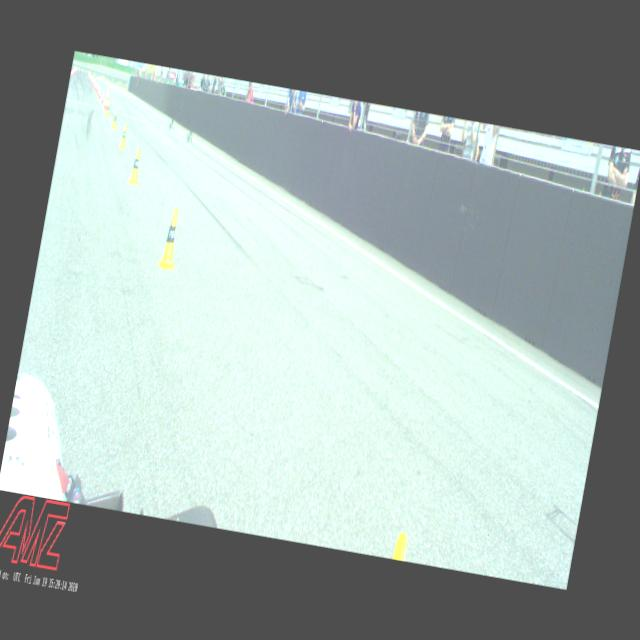large_orange_cone: (104, 87, 110, 110), (102, 88, 108, 110)
orange_cone: (100, 91, 105, 104), (97, 87, 102, 99)
yellow_cone: (156, 205, 184, 270), (128, 146, 144, 184), (118, 123, 128, 149), (110, 109, 118, 129), (104, 100, 110, 118)
